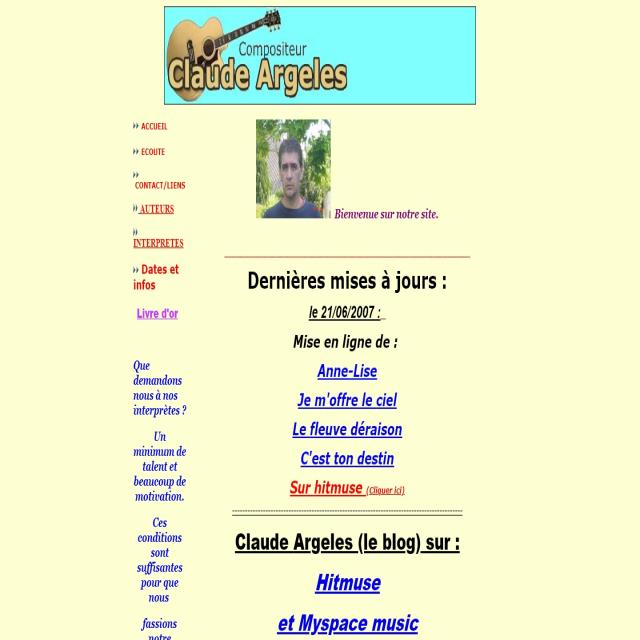button: (129, 168, 192, 192), (132, 225, 186, 251), (133, 264, 182, 292), (129, 117, 171, 136), (131, 200, 177, 217), (130, 141, 170, 160)
heading: (169, 55, 352, 99), (248, 266, 446, 298), (234, 531, 463, 557), (237, 40, 308, 57)
image: (163, 6, 476, 104), (256, 119, 331, 219)
link: (277, 608, 422, 637), (286, 475, 408, 498), (294, 389, 400, 414), (290, 418, 407, 440), (299, 446, 399, 470), (315, 569, 383, 598), (316, 359, 379, 383)
text: (132, 426, 187, 507), (137, 518, 186, 604), (132, 356, 188, 420), (293, 332, 402, 353), (307, 302, 389, 323), (137, 613, 185, 640), (133, 304, 181, 326)
